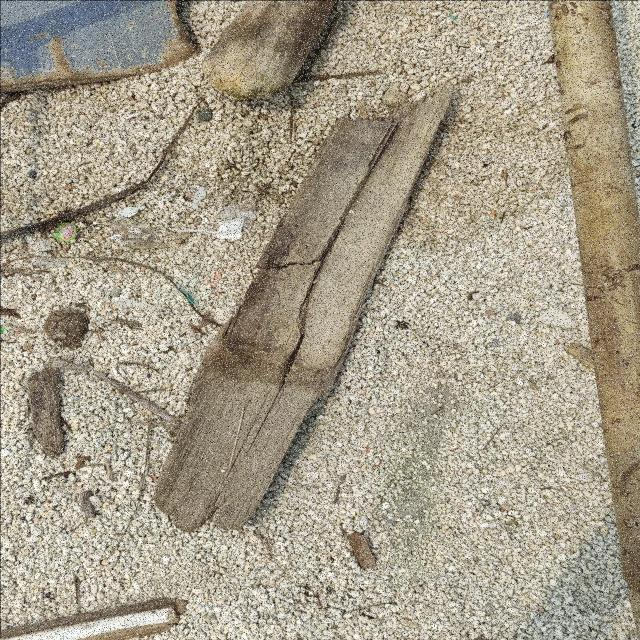wood_waste: (153, 88, 457, 534)
